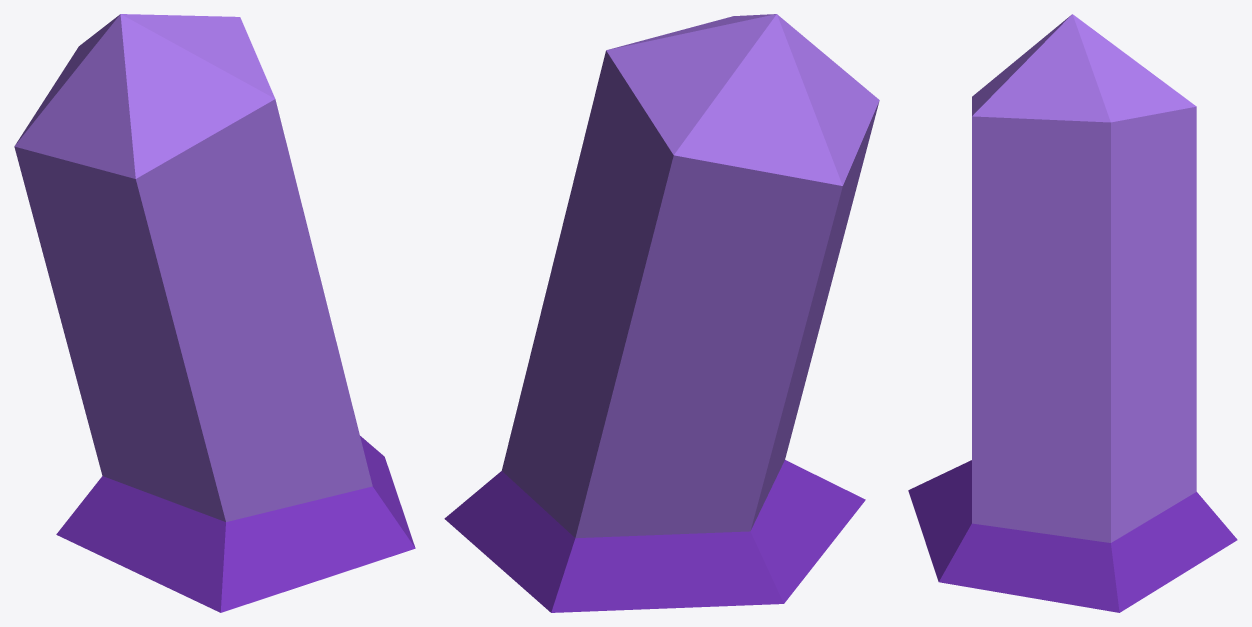
File: crystal_titled_001_grp.fbx
3 views of the same model, side by side, from view 1: azimuth 30°, elevation 25°; view 2: azimuth 150°, elevation 25°; view 3: azimuth 270°, elevation 25° (orthographic). The views are drawn at different scales.
Visible parts, largest first — view 1: crystal_titled_001_grp; view 2: crystal_titled_001_grp; view 3: crystal_titled_001_grp.
Part boxes in pixels (x1,y1,x2,y2): crystal_titled_001_grp: (14, 14, 415, 612); crystal_titled_001_grp: (444, 14, 879, 612); crystal_titled_001_grp: (908, 14, 1237, 612).
Size of the model in its own units: 35 by 47.5 by 30.
